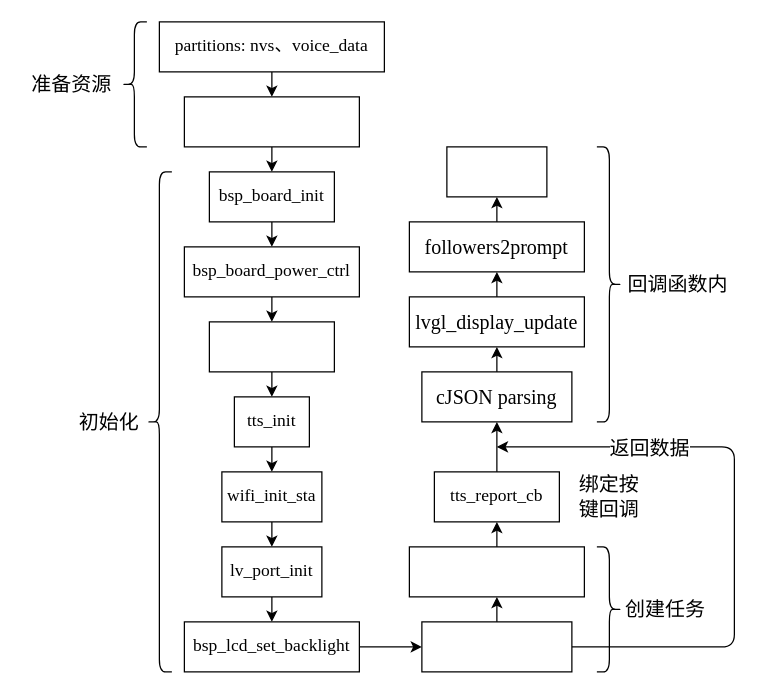
This 766x694 diagram has some shape labels left out. Here are the shapes that lost their labels. From the top down, the box of each, then its label:
(183, 96, 359, 147): server_root_cert.pem
(446, 146, 547, 197): tts_report
(208, 321, 334, 372): nvs_flash_init
(408, 546, 584, 597): lvgl_display_init_task
(421, 621, 572, 672): https_request_task
